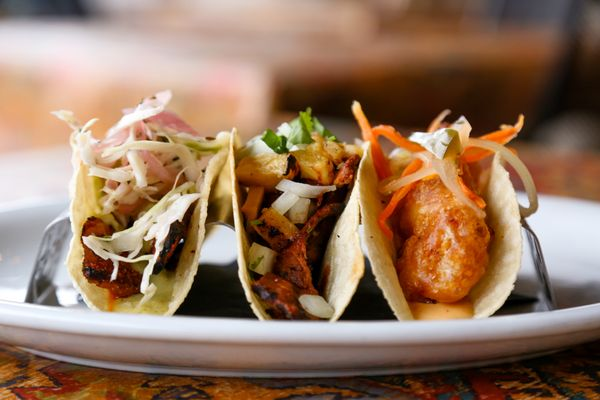soup: (64, 91, 236, 315)
